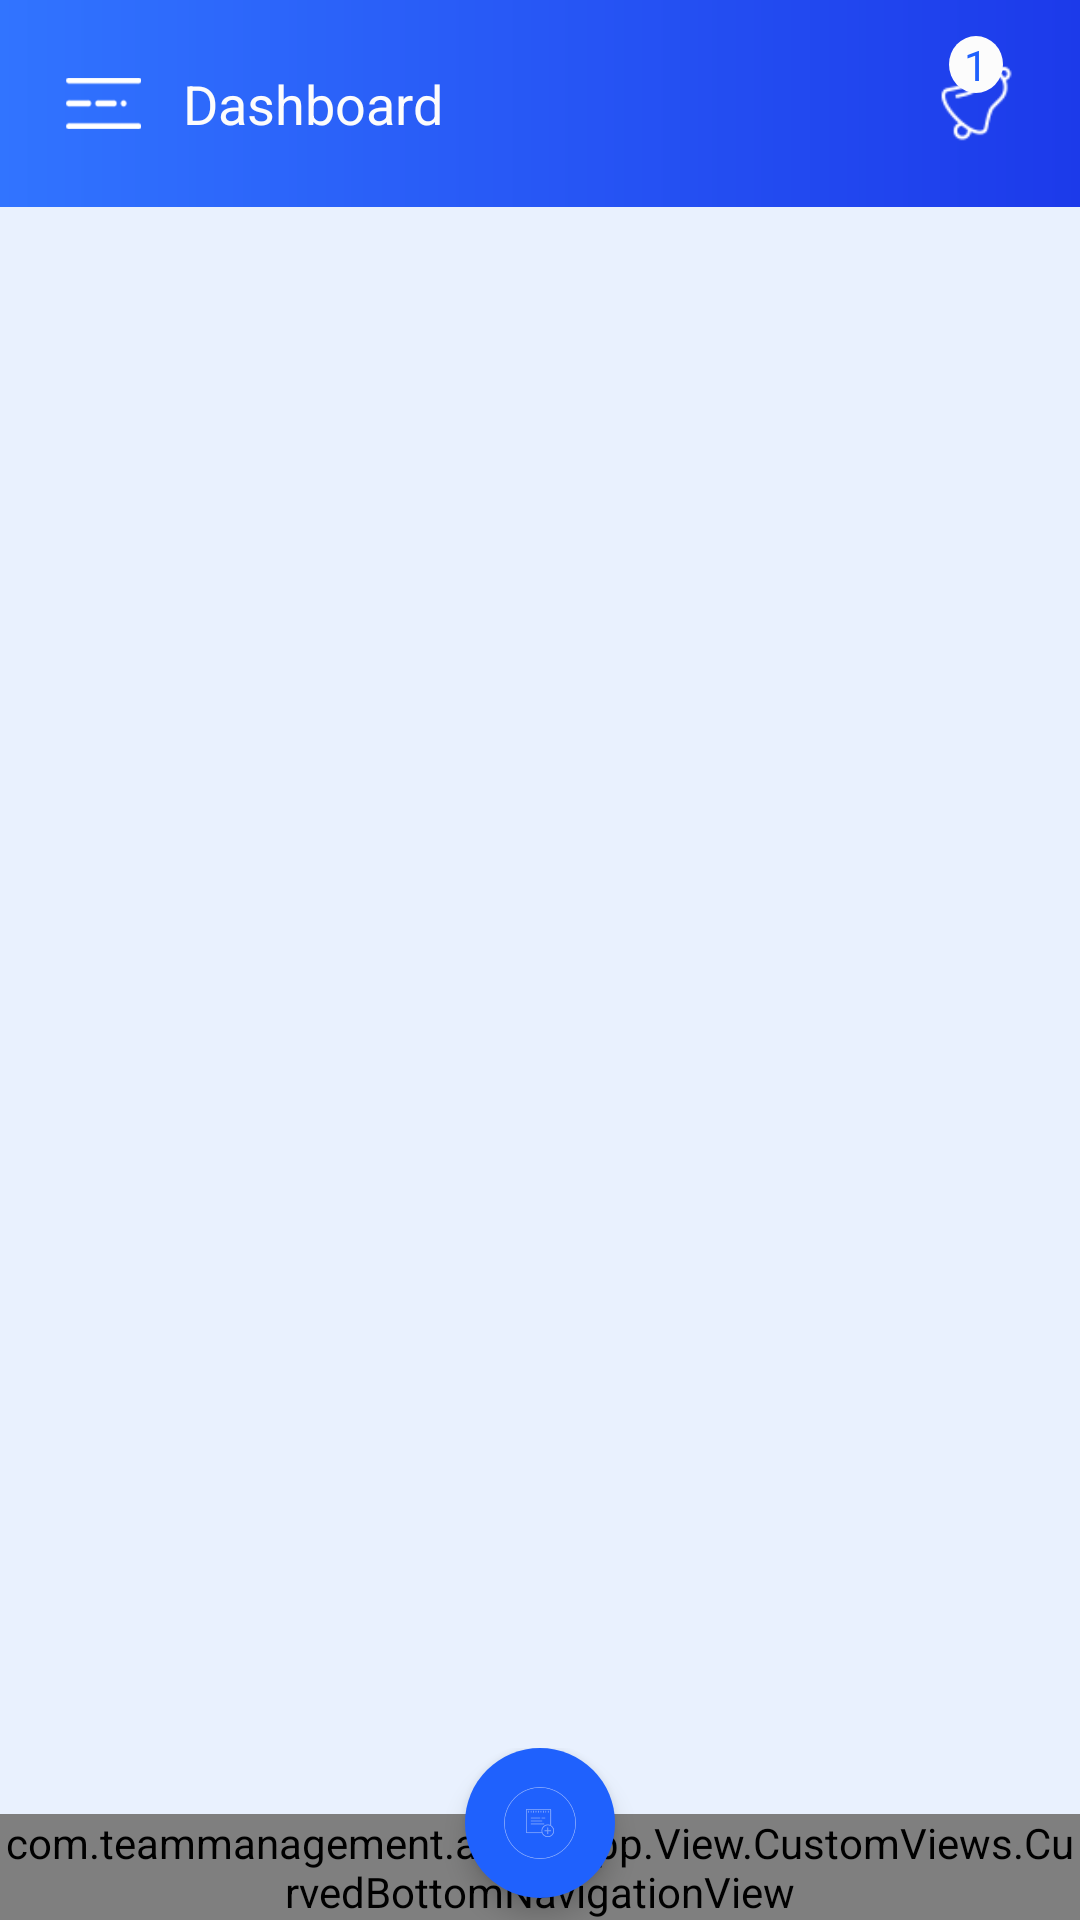

Named icons in this screenshot (1080 x 1920) and their bounding boxes, [left=x1, top=y1, right=x2, bottom=y2]:
notification: [left=941, top=36, right=1012, bottom=141]
toggle: [left=66, top=78, right=141, bottom=129]
